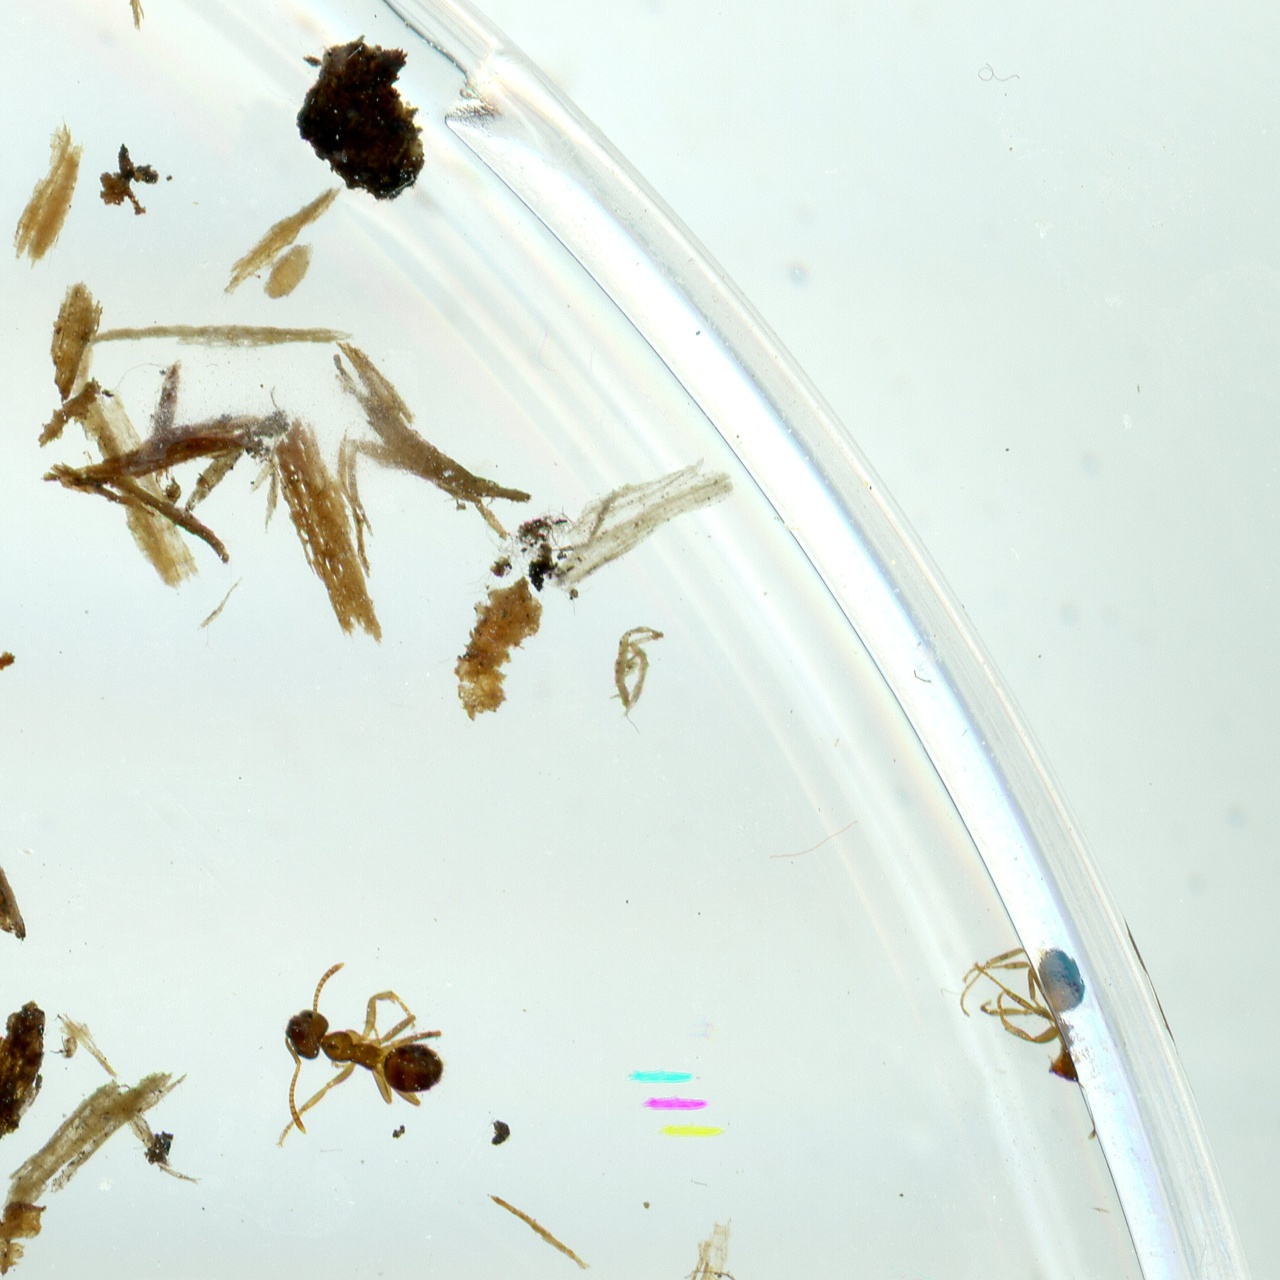arthropod: (946, 930, 1126, 1164), (270, 959, 449, 1152), (49, 1034, 80, 1060)
